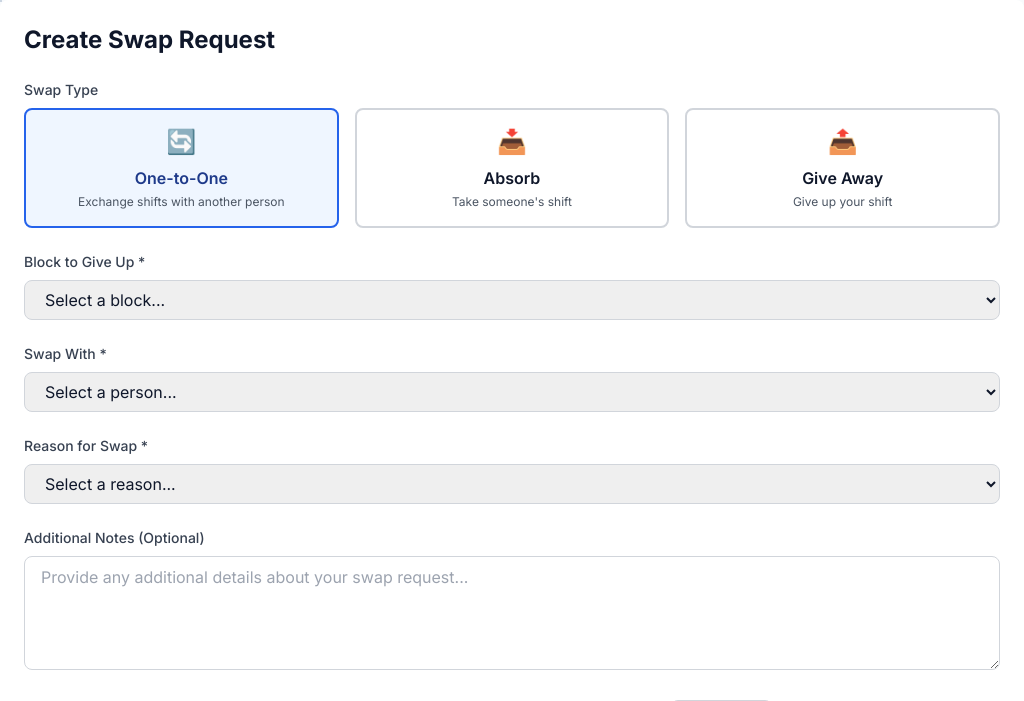
Test: SwapRequestForm › One-to-One Swap Flow › shows error when target blocks fail to load
This screenshot has width=1024, height=701.
Step 1. Select "Dr. Alice Smith (PGY-2)" in the dropdown labelled "Swap With *" → point(512, 392), box [24,372,1000,412]
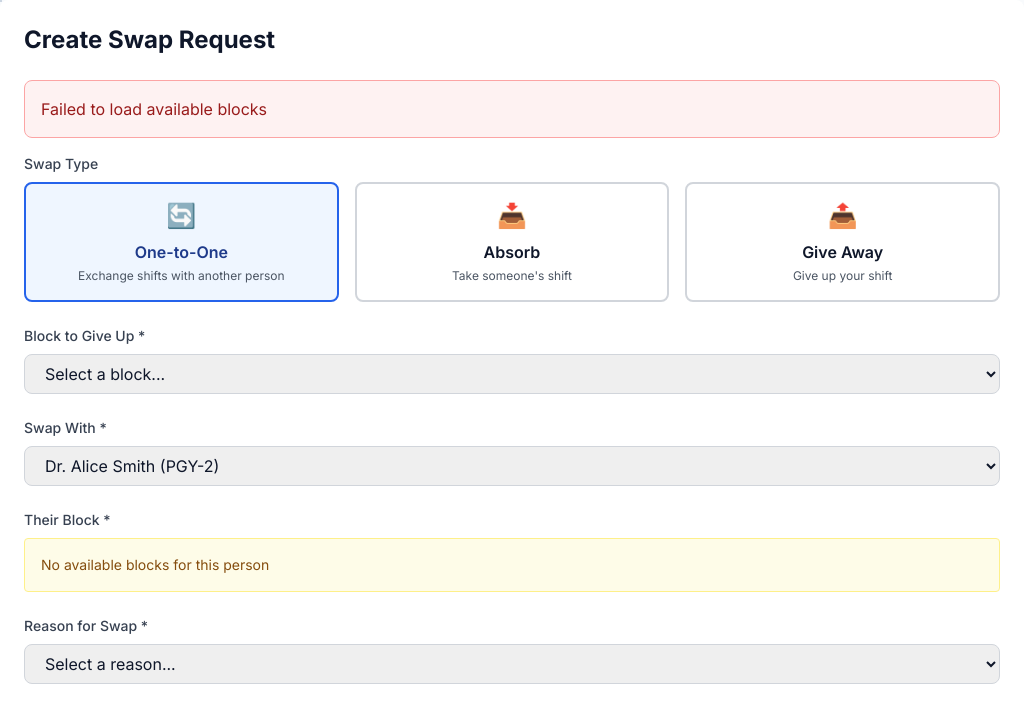
Result: the text "Failed to load available blocks" is shown at [24,80,1000,138]
